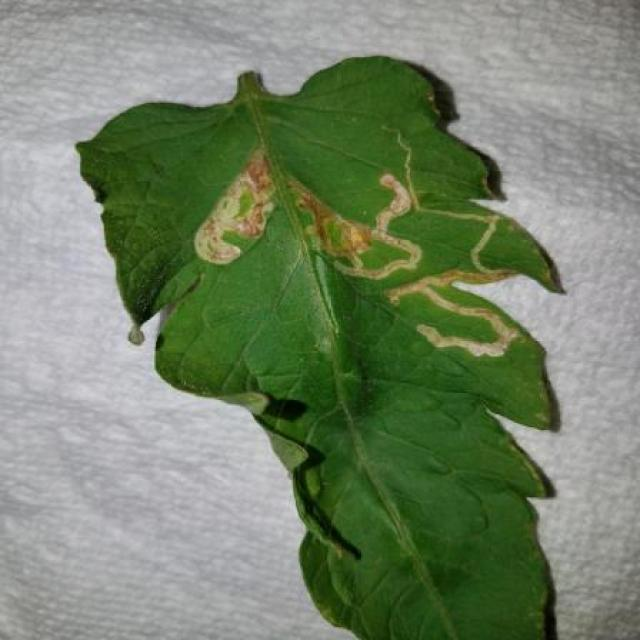Leaf Miner: (67, 53, 560, 640)
